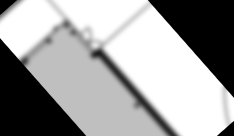double door: (77, 25, 105, 54)
